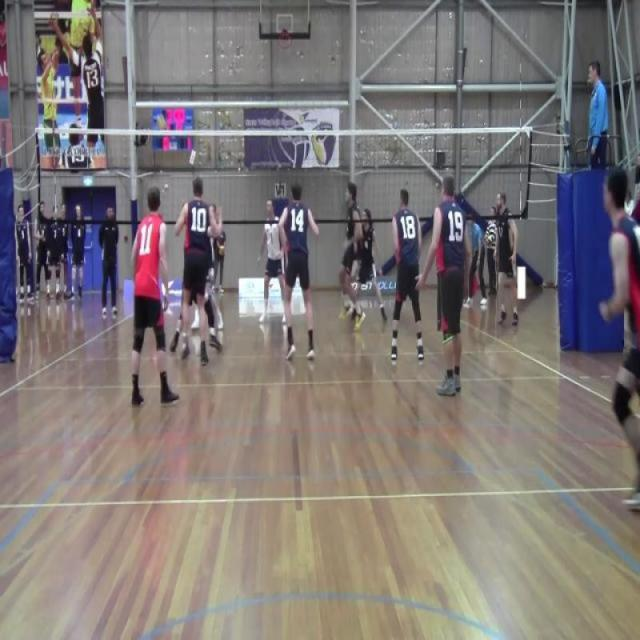volleyball: (154, 114, 168, 130), (218, 243, 225, 257)
